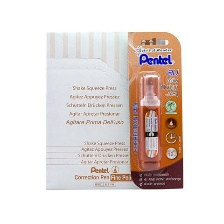book: (44, 28, 167, 191), (124, 29, 185, 190)
correction_fluid: (133, 70, 163, 172)
